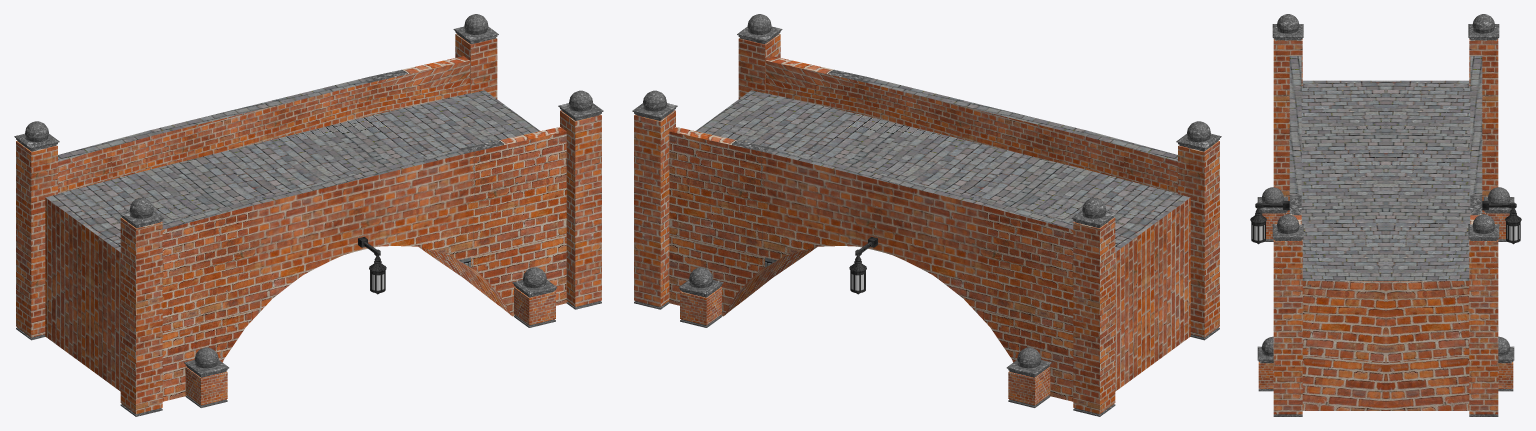
Rendered from Gallery.fbx.
3 views of the same model, side by side, from view 1: azimuth 30°, elevation 25°; view 2: azimuth 150°, elevation 25°; view 3: azimuth 270°, elevation 25° (orthographic). The views are drawn at different scales.
Visible parts, largest first — view 1: Gallery_LOD0; view 2: Gallery_LOD0; view 3: Gallery_LOD0.
Boxes of the visible parts, x1,y1,x2,y2 form: Gallery_LOD0: [14, 14, 603, 416]; Gallery_LOD0: [632, 14, 1221, 416]; Gallery_LOD0: [1250, 14, 1521, 416].
Size of what is drawn, in the model's own units: 5858 by 2502 by 3147.
